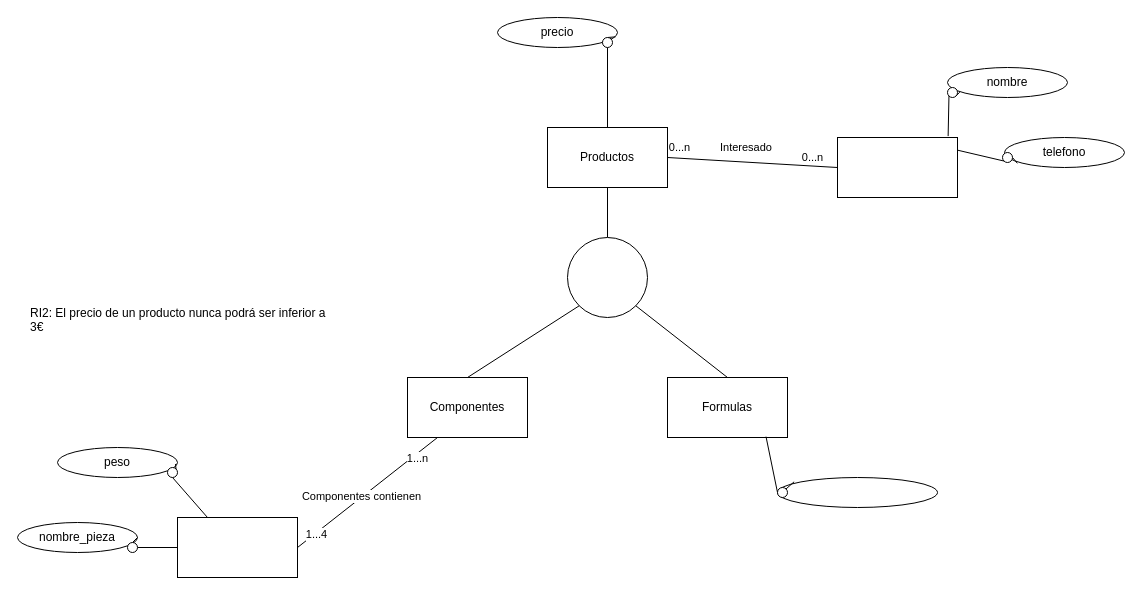
This 1142x595 diagram has some shape labels left out. The centre of each missing label's shape, as x and y in pixels:
Clientes: the point at 897,167
fecha_comercializacion: the point at 857,492
Piezas: the point at 237,547
T/D: the point at 607,277
